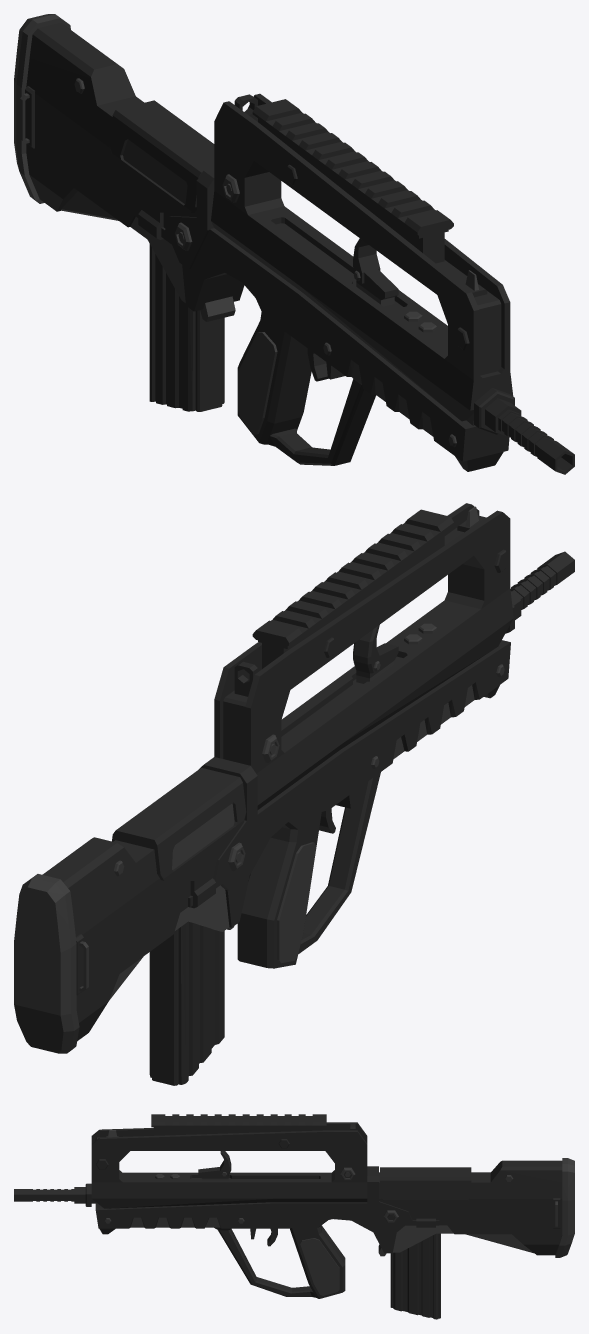
Rendered from famas.glb.
The picture shows the model from 3 angles, top to bottom: view 1: azimuth 30°, elevation 25°; view 2: azimuth 150°, elevation 25°; view 3: azimuth 270°, elevation 25°; orthographic projection. The views are drawn at different scales.
Visible parts, largest first — view 1: AR_E_Receiver, AR_E_Rail, AR_E_Mag, AR_E_Barrel, AR_E_Bolt; view 2: AR_E_Receiver, AR_E_Mag, AR_E_Rail, AR_E_Barrel, AR_E_Bolt; view 3: AR_E_Receiver, AR_E_Mag, AR_E_Rail, AR_E_Barrel, AR_E_Bolt.
Boxes of the visible parts, x1,y1,x2,y2 form: AR_E_Receiver: [14, 14, 513, 471]; AR_E_Rail: [252, 99, 453, 263]; AR_E_Mag: [149, 244, 224, 411]; AR_E_Barrel: [474, 388, 574, 474]; AR_E_Bolt: [353, 238, 398, 306]; AR_E_Receiver: [14, 503, 513, 1053]; AR_E_Mag: [149, 921, 224, 1085]; AR_E_Rail: [252, 509, 453, 668]; AR_E_Barrel: [505, 551, 574, 633]; AR_E_Bolt: [353, 624, 398, 683]; AR_E_Receiver: [91, 1122, 574, 1298]; AR_E_Mag: [390, 1233, 440, 1319]; AR_E_Rail: [151, 1114, 326, 1135]; AR_E_Barrel: [14, 1183, 95, 1206]; AR_E_Bolt: [198, 1151, 231, 1180].
Bounding box in the file's own units: 0.0725 × 0.3875 × 1.
1 material, 1 textured.
